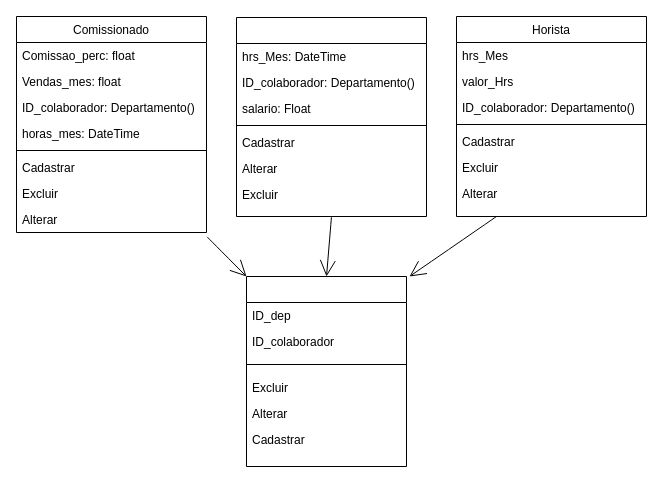
This 663x483 diagram has some shape labels left out. Each missing label, with the box of its shape:
Assalariado: (236, 16, 426, 216)
Departamento: (246, 276, 406, 466)
